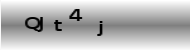4: (68, 7, 83, 22)
J: (37, 16, 43, 32)
Q: (24, 16, 40, 31)
j: (96, 20, 104, 37)
t: (53, 19, 63, 31)
